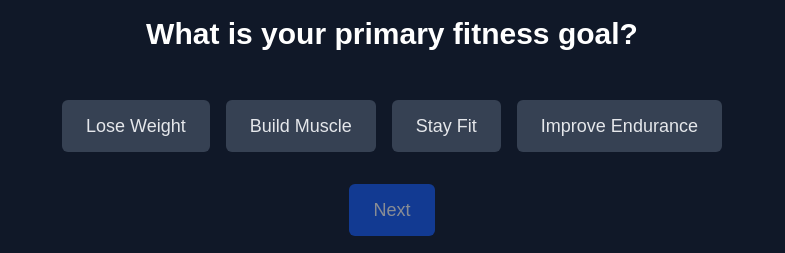
Test: OnboardingPage › renders Step 1 initially and navigates to Step 2
Expected: the heading "What is your primary fitness goal?" is shown, [146,16,638,52]
Note: Simulate selection and navigation
Click the button "Lose Weight".
click(136, 126)  # box [62,100,210,152]
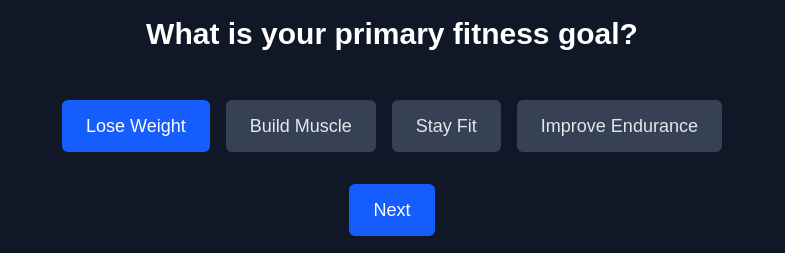
Click the button "Next".
click(392, 210)  # box [350,184,434,236]
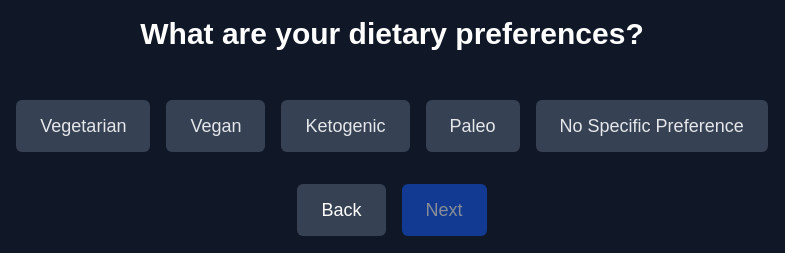
Result: the heading "What are your dietary preferences?" is shown at [140,16,644,52]
